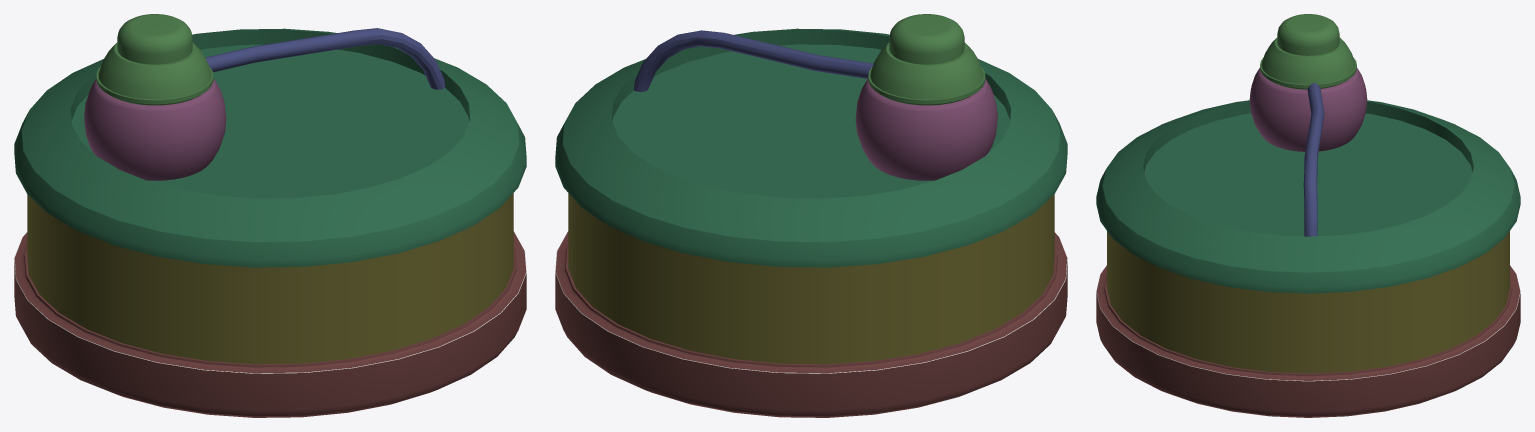
The model's file is Container_Style_15.fbx.
The picture shows the model from 3 angles, left to right: view 1: azimuth 30°, elevation 25°; view 2: azimuth 150°, elevation 25°; view 3: azimuth 270°, elevation 25°; orthographic projection. The views are drawn at different scales.
Visible parts, largest first — view 1: SetA_Container_Style_15; view 2: SetA_Container_Style_15; view 3: SetA_Container_Style_15.
Boxes of the visible parts, <box> form: SetA_Container_Style_15: <box>14,14,526,417</box>; SetA_Container_Style_15: <box>555,14,1067,417</box>; SetA_Container_Style_15: <box>1096,14,1520,417</box>.
Bounding box in the file's own units: 0.4024 × 0.2811 × 0.4024.
